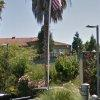Palm tree: (27, 0, 75, 99)
